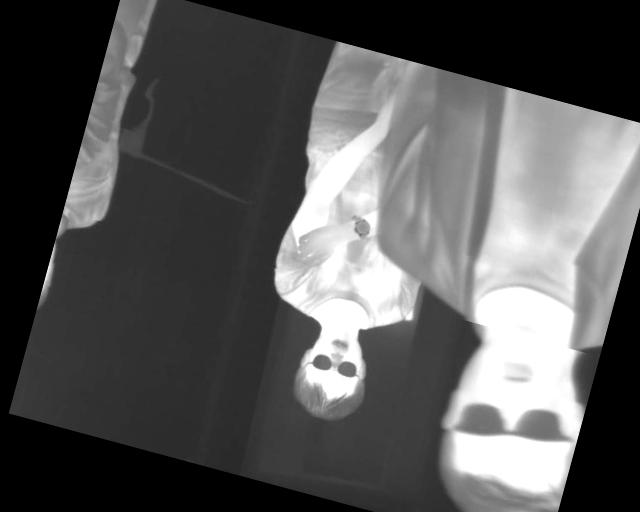face: (415, 312, 602, 512), (285, 316, 379, 429)
